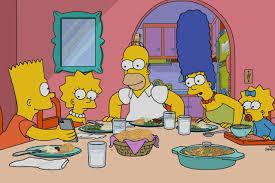Bart: (2, 58, 73, 146)
Homer: (102, 30, 185, 129)
Lisa: (53, 70, 106, 128)
Maggie: (233, 82, 274, 141)
Marge: (175, 7, 244, 129)
